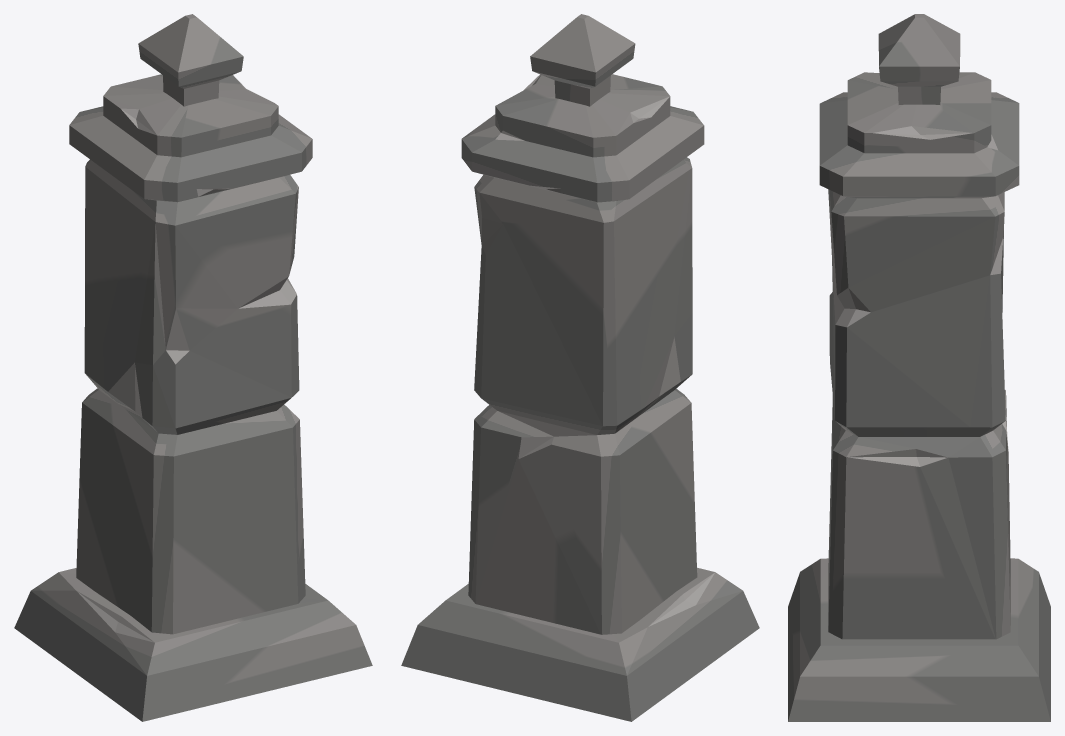
File: crypt_fence_post.gltf
3 renders of one model, left to right at view 1: azimuth 30°, elevation 25°; view 2: azimuth 150°, elevation 25°; view 3: azimuth 270°, elevation 25°, orthographic. The views are drawn at different scales.
Parts seen in each view (by area): view 1: crypt_fence_post; view 2: crypt_fence_post; view 3: crypt_fence_post.
Boxes of the visible parts, box(x1,y1,x2,y2) form: crypt_fence_post: box(14, 14, 372, 721); crypt_fence_post: box(401, 14, 759, 721); crypt_fence_post: box(788, 14, 1050, 721).
Bounding box in the file's own units: 0.9029 × 2.36 × 0.8701.
1 material, 1 textured.
